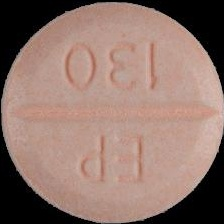64125-130: (0, 0, 224, 224)
